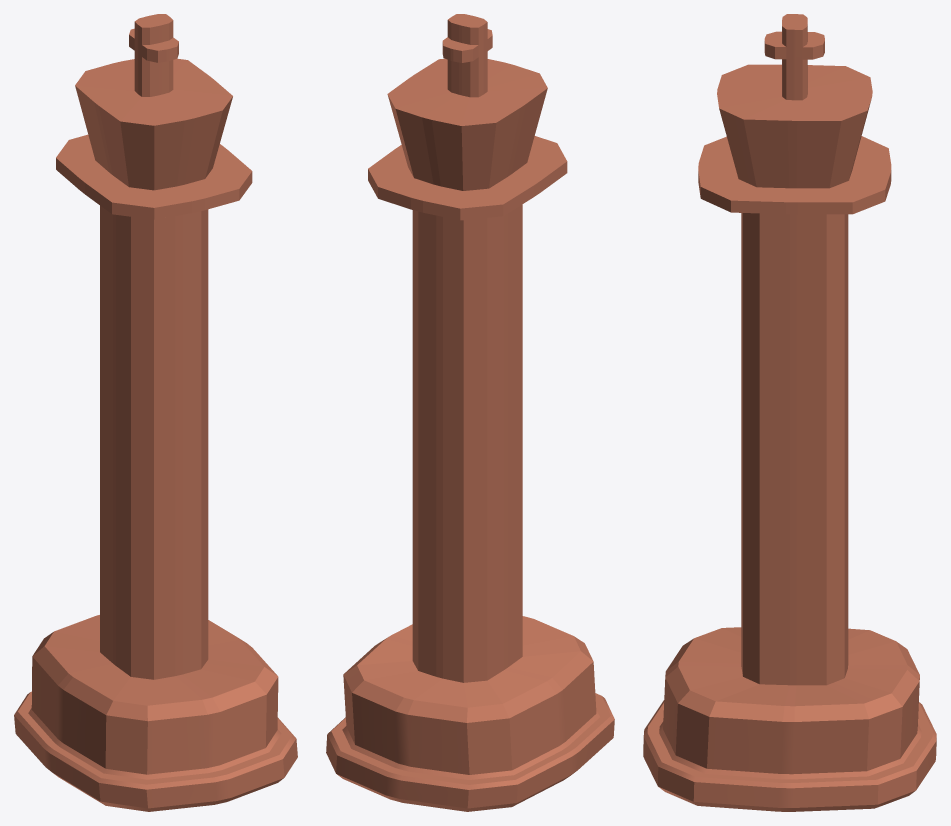
File: SM_Chess-King.fbx
The picture shows the model from 3 angles, left to right: view 1: azimuth 30°, elevation 25°; view 2: azimuth 150°, elevation 25°; view 3: azimuth 270°, elevation 25°; orthographic projection.
Parts seen in each view (by area): view 1: pillar_1_piece_2_low; view 2: pillar_1_piece_2_low; view 3: pillar_1_piece_2_low.
Part boxes in pixels (box(x1,y1,x2,y2)): pillar_1_piece_2_low: box(14, 14, 297, 811); pillar_1_piece_2_low: box(326, 14, 614, 811); pillar_1_piece_2_low: box(643, 14, 936, 811).
Bounding box in the file's own units: 4.68 × 15.29 × 5.48.
